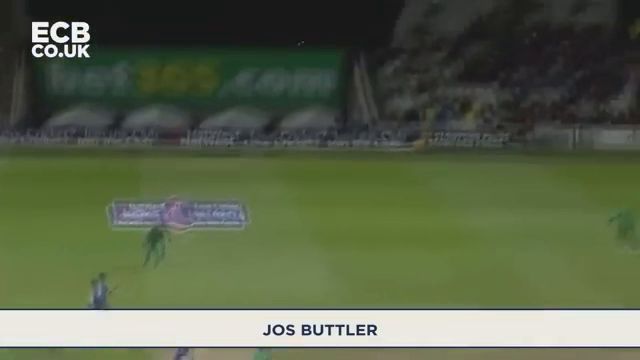fielder: (143, 223, 173, 270)
